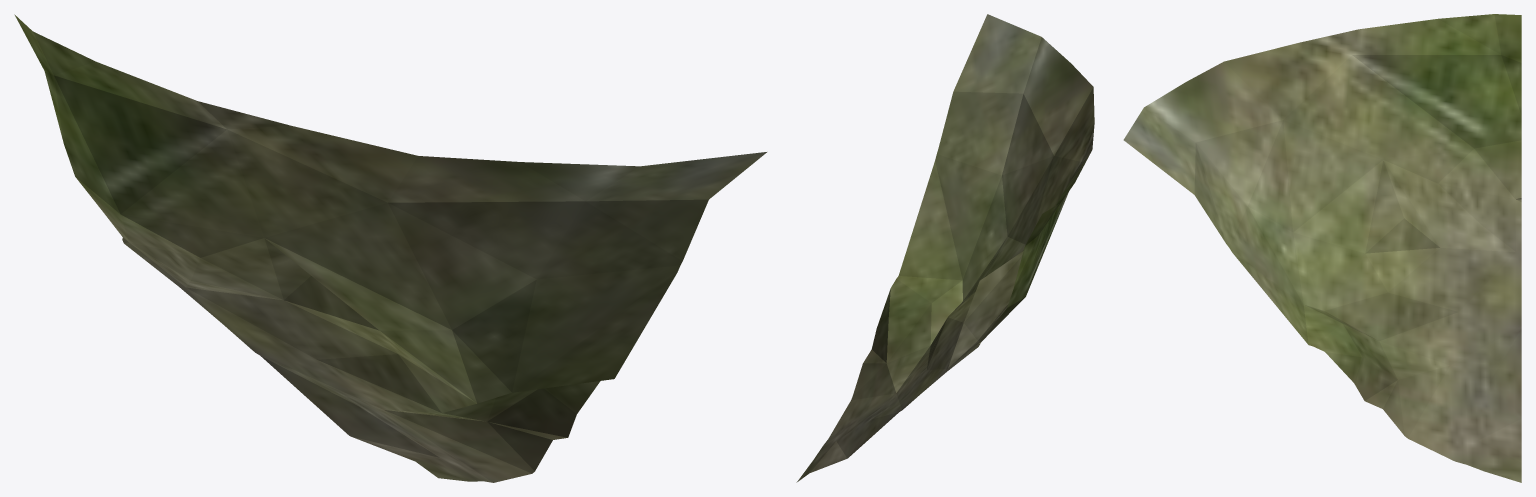
3 renders of one model, left to right at view 1: azimuth 30°, elevation 25°; view 2: azimuth 150°, elevation 25°; view 3: azimuth 270°, elevation 25°, orthographic. The views are drawn at different scales.
Size of the model in its own units: 5.04 by 6.39 by 6.72.
1 material, 1 textured.
